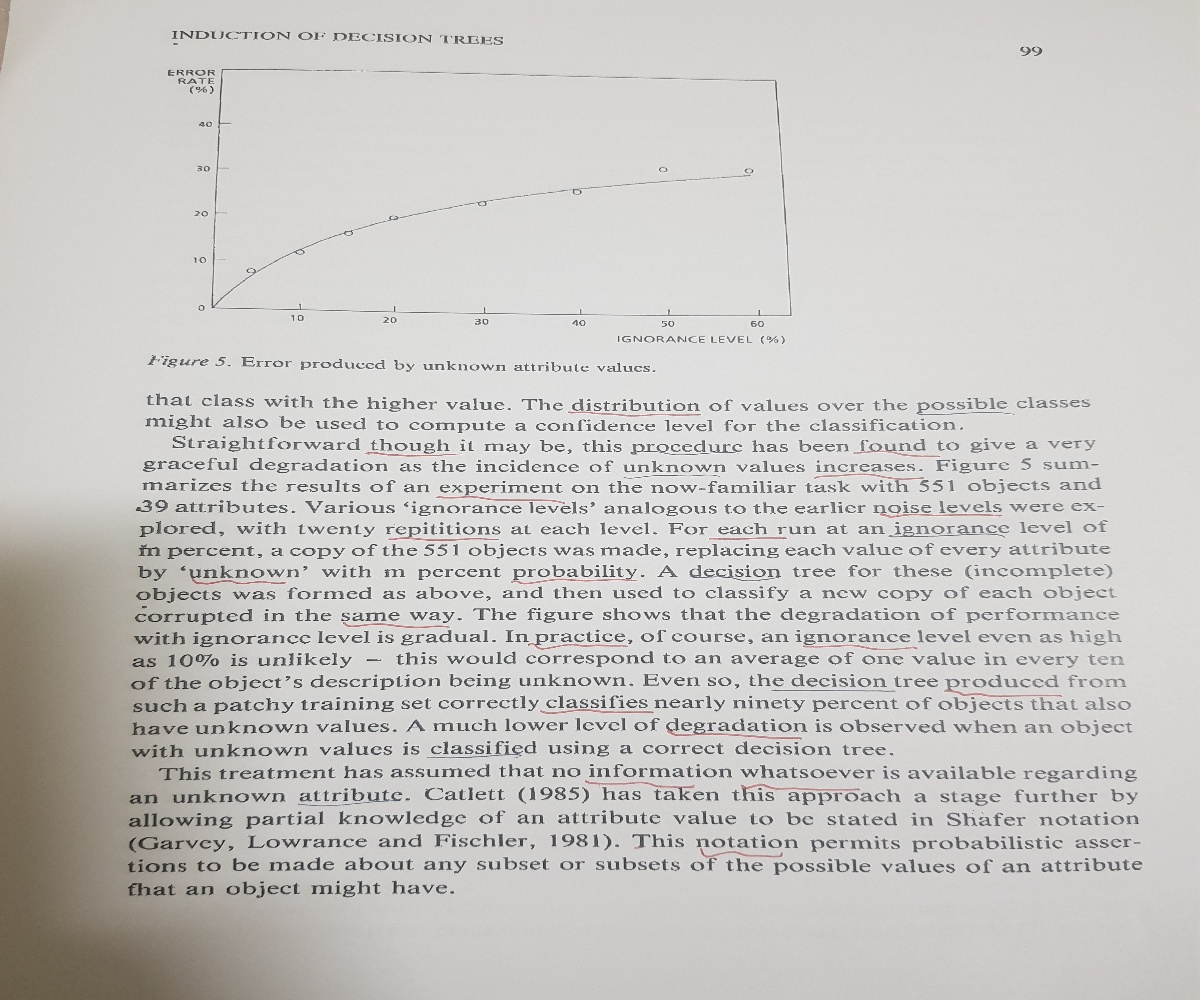underline: (664, 728, 805, 745), (871, 508, 1007, 522), (582, 777, 697, 793), (943, 686, 1065, 701), (566, 408, 701, 421), (768, 686, 898, 698), (434, 493, 571, 504), (339, 618, 458, 630), (538, 707, 655, 719), (736, 781, 862, 792), (811, 471, 925, 483), (798, 641, 921, 652), (187, 574, 289, 587), (887, 531, 1007, 541), (696, 846, 788, 859), (362, 448, 461, 460), (507, 576, 637, 585), (424, 752, 529, 763), (526, 641, 628, 652), (688, 573, 787, 584), (294, 798, 413, 807), (853, 449, 942, 461), (385, 533, 501, 542), (915, 408, 1019, 418), (625, 449, 745, 457), (624, 472, 723, 481), (708, 532, 792, 542)
